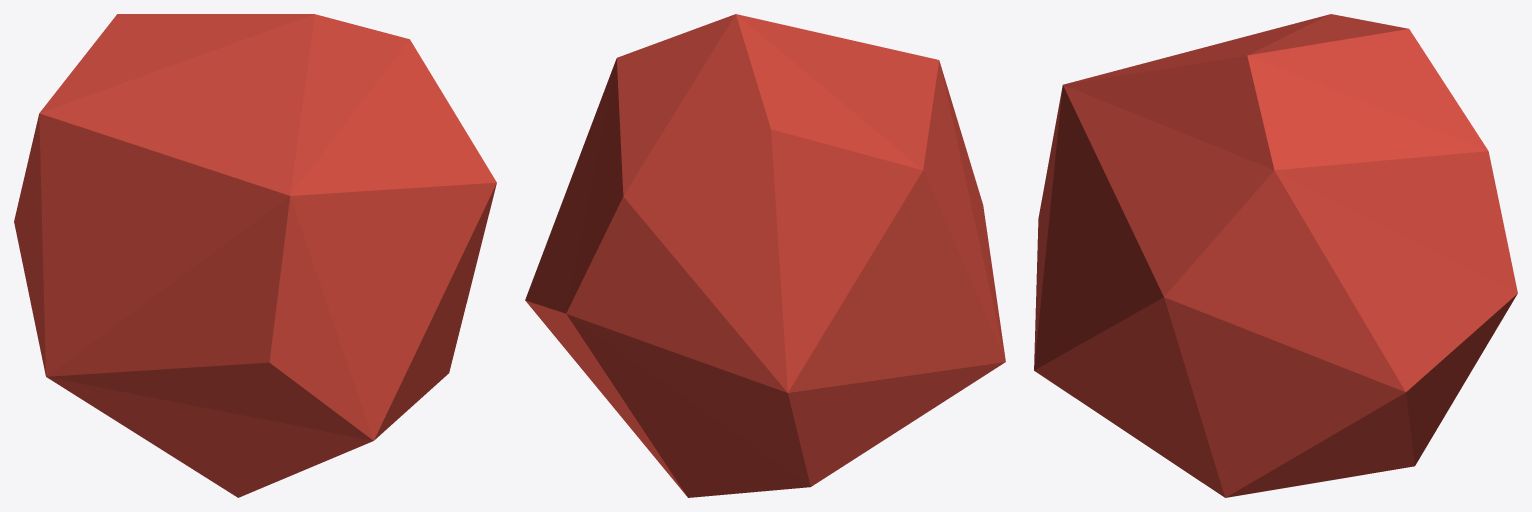
The model's file is crystal4-db8d47d1e8.glb.
3 views of the same model, side by side, from view 1: azimuth 30°, elevation 25°; view 2: azimuth 150°, elevation 25°; view 3: azimuth 270°, elevation 25° (orthographic). The views are drawn at different scales.
Parts seen in each view (by area): view 1: Crystal4.obj; view 2: Crystal4.obj; view 3: Crystal4.obj.
Boxes of the visible parts, <box> form: Crystal4.obj: <box>14,14,496,497</box>; Crystal4.obj: <box>525,14,1005,497</box>; Crystal4.obj: <box>1034,14,1517,497</box>.
Bounding box in the file's own units: 0.475 × 0.501 × 0.4801.
